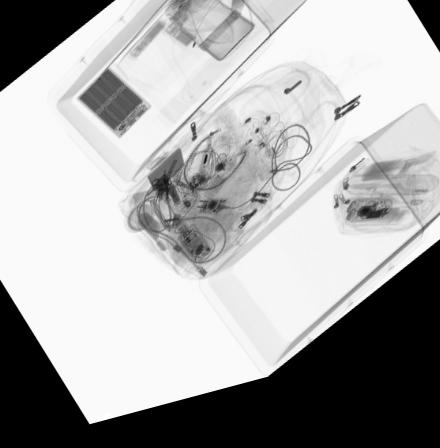Powerbank: (73, 70, 152, 147)
